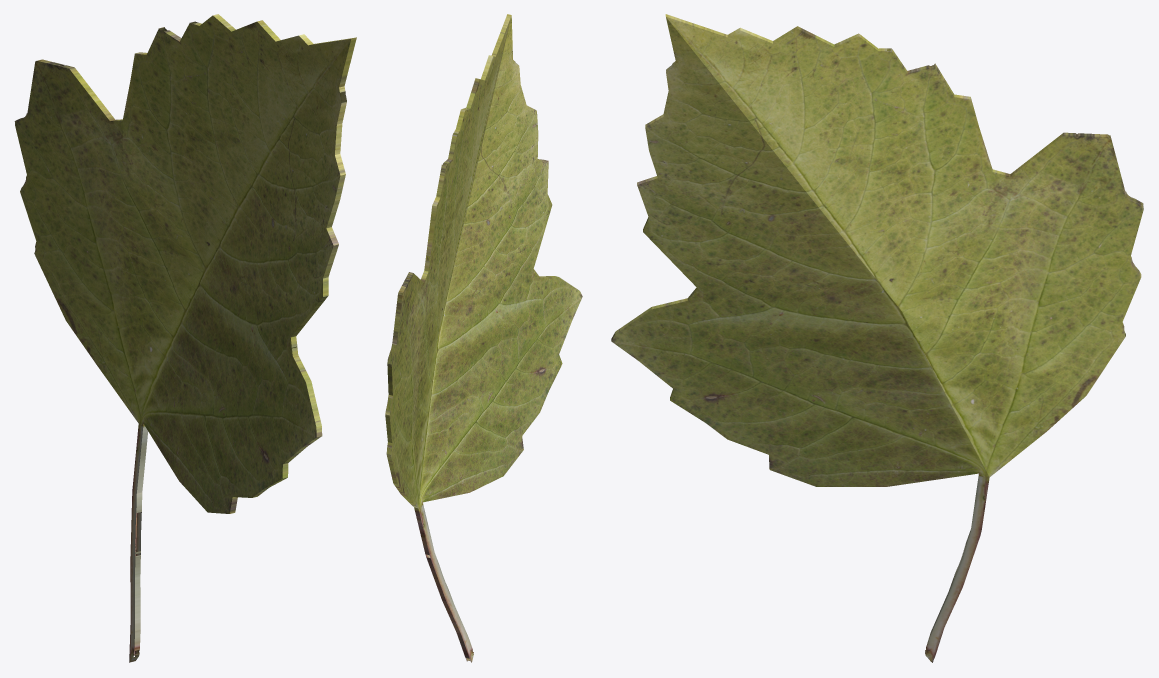
Rendered from leaf1.obj.
3 views of the same model, side by side, from view 1: azimuth 30°, elevation 25°; view 2: azimuth 150°, elevation 25°; view 3: azimuth 270°, elevation 25° (orthographic). The views are drawn at different scales.
Visible parts, largest first — view 1: Plane; view 2: Plane; view 3: Plane.
Part boxes in pixels (bbox=[...]): Plane: bbox=[14, 14, 356, 662]; Plane: bbox=[385, 14, 582, 662]; Plane: bbox=[611, 14, 1143, 662].
Bounding box in the file's own units: 0.0921 × 0.6339 × 0.4452.
1 material, 1 textured.
